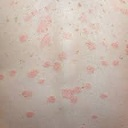Actinic: (21, 12, 109, 117)
